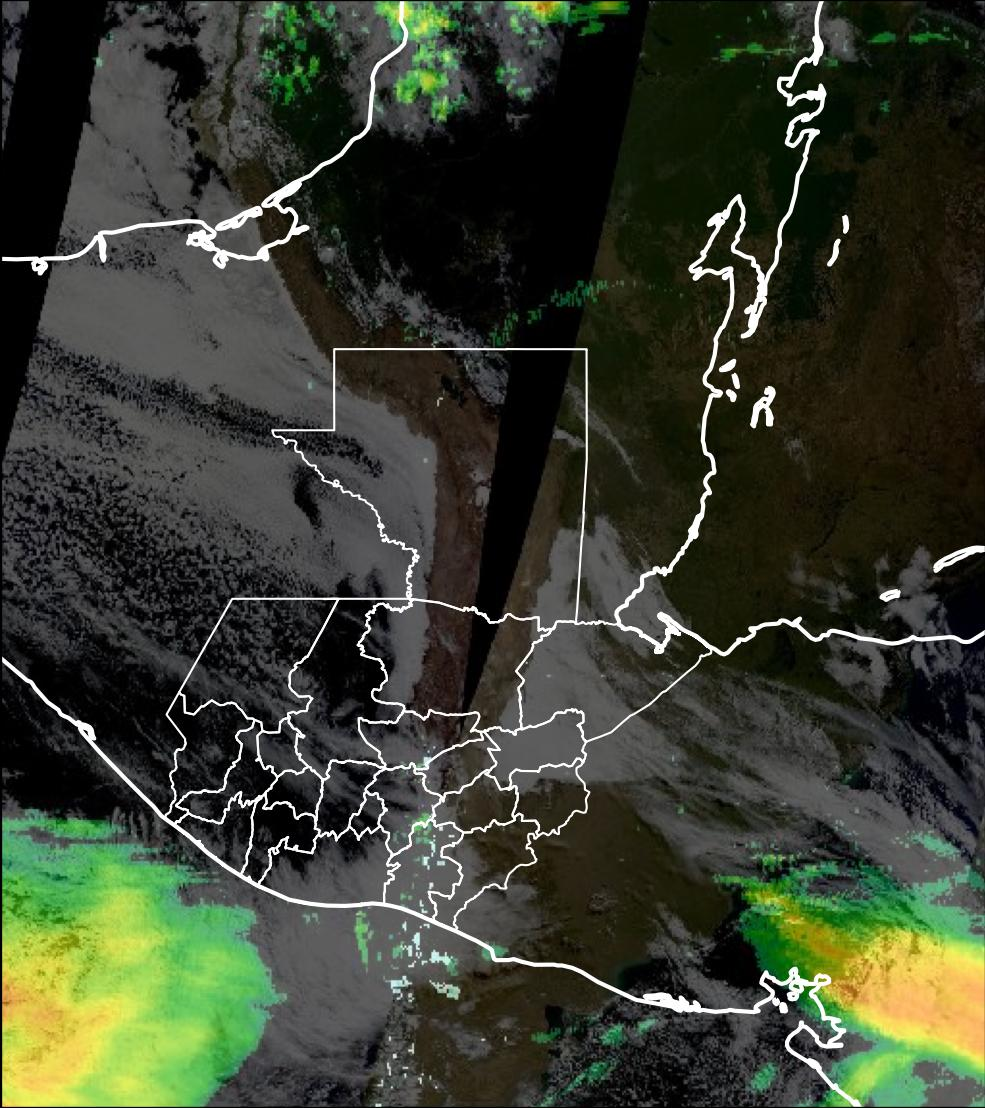precipitacion: (807, 899, 985, 1072), (1, 949, 130, 1090)
